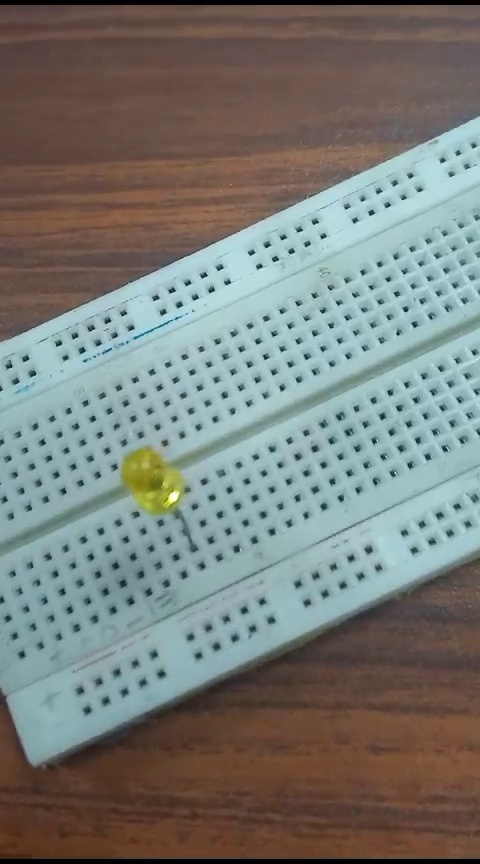LED: (94, 439, 208, 560)
